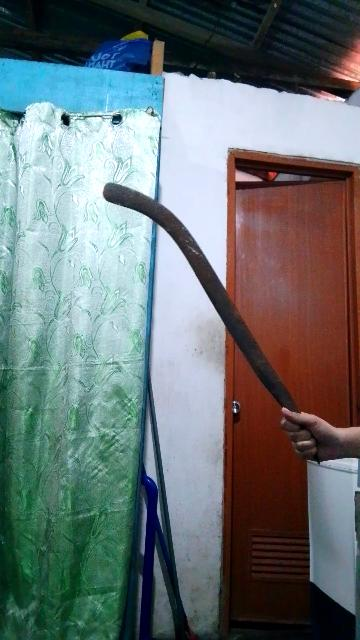long knife: (82, 174, 336, 473)
